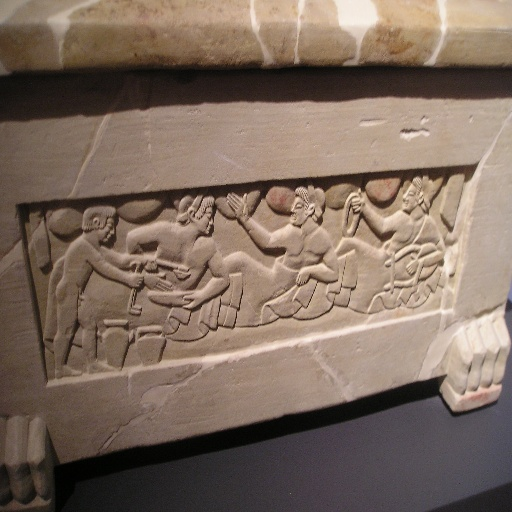hand: (1, 402, 55, 505), (226, 191, 248, 218), (143, 271, 174, 290), (350, 187, 366, 216), (181, 294, 201, 313), (294, 266, 312, 287), (405, 252, 419, 275), (141, 253, 158, 269), (129, 272, 143, 290)
